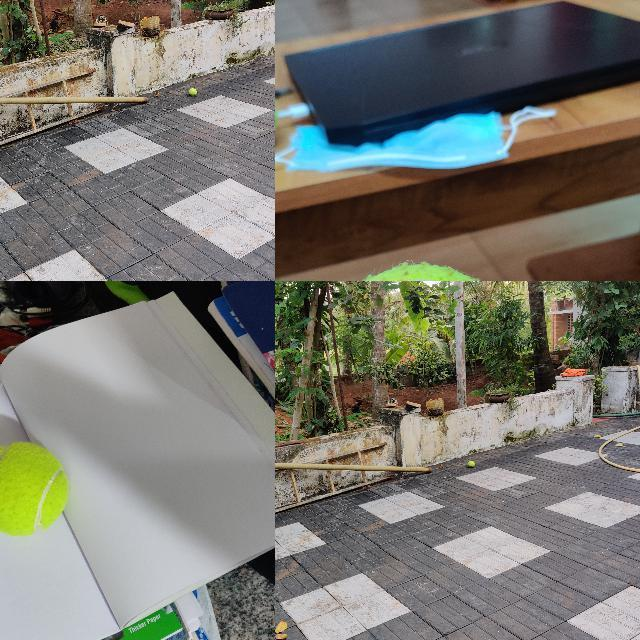tennis-ball: (0, 440, 70, 536), (188, 88, 196, 96), (468, 461, 475, 468)
